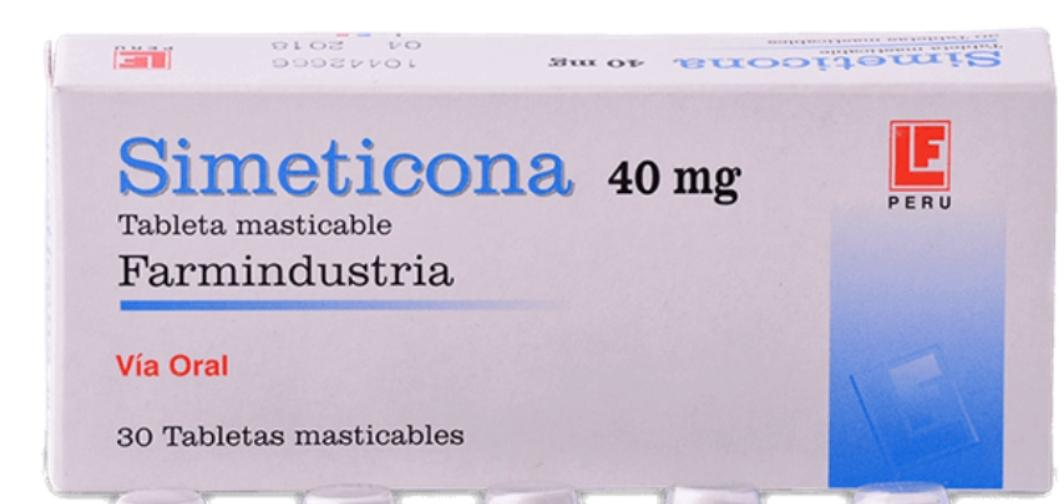brand: (118, 243, 469, 295)
extra_detail: (604, 150, 751, 211)
net_weight: (114, 413, 469, 460)
product_name: (113, 133, 586, 204)
